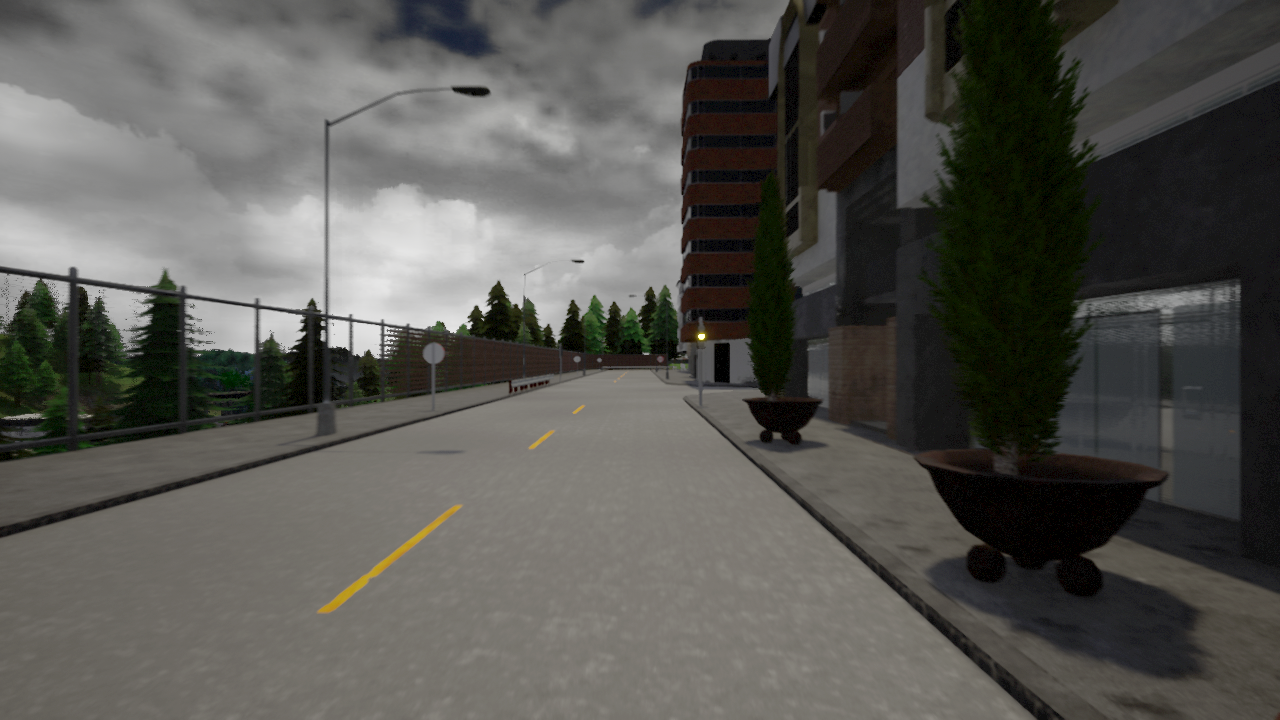yellow: (696, 322, 707, 353)
